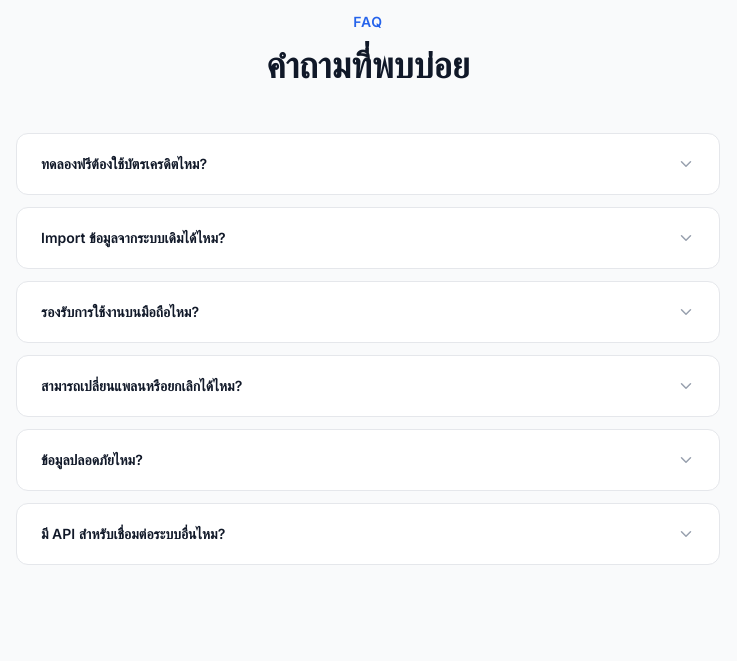
Test: FAQ › closes previous answer when a different question is opened
The width and height of the screenshot is (737, 661).
Step 1. Click the button "ทดลองฟรีต้องใช้บัตรเครดิตไหม?" → (124, 164), box [17,134,719,194]
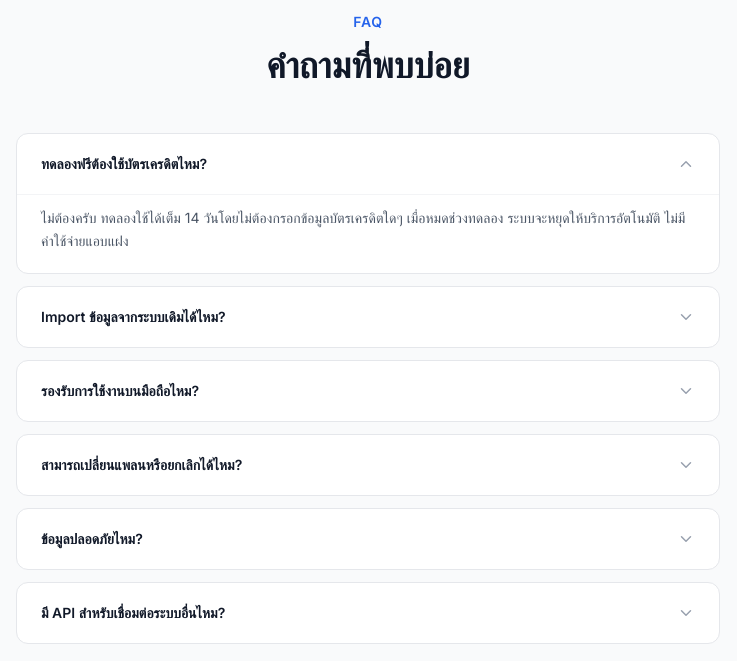
Expected: the text "ไม่ต้องครับ ทดลองใช้ได้เต็ม 14 วัน" is shown, [41,209,685,249]
Step 2. Click the button "Import ข้อมูลจากระบบเดิมได้ไหม?" → (133, 316), box [17,286,719,346]
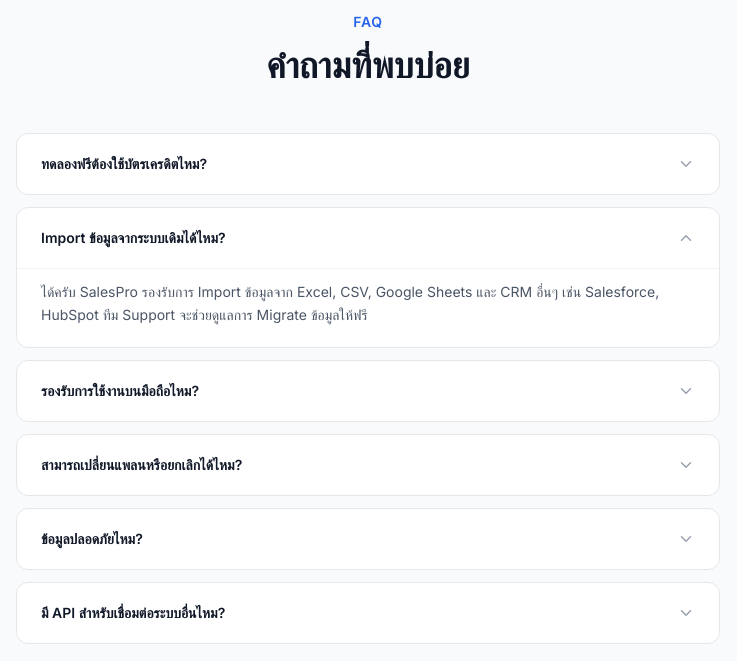
Expected: the text "ไม่ต้องครับ ทดลองใช้ได้เต็ม 14 วัน" is gone
Expected: the text "ได้ครับ SalesPro รองรับการ Import" is shown, [41,283,659,323]
